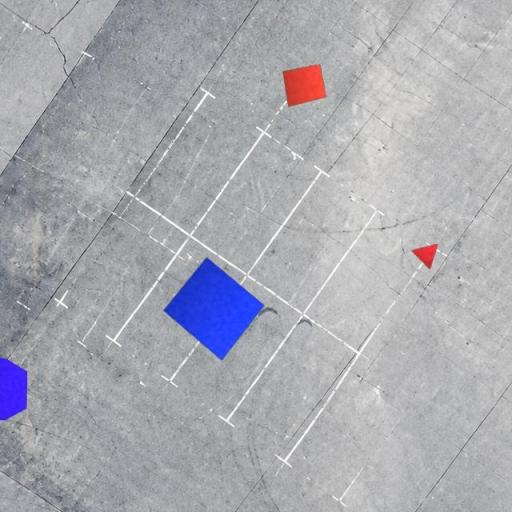BLUE_SQUARE: (162, 256, 266, 362)
RED_SQUARE: (282, 64, 327, 107)
